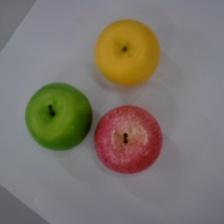green: (25, 83, 93, 151)
red: (94, 105, 163, 174)
yellow: (95, 20, 161, 87)
